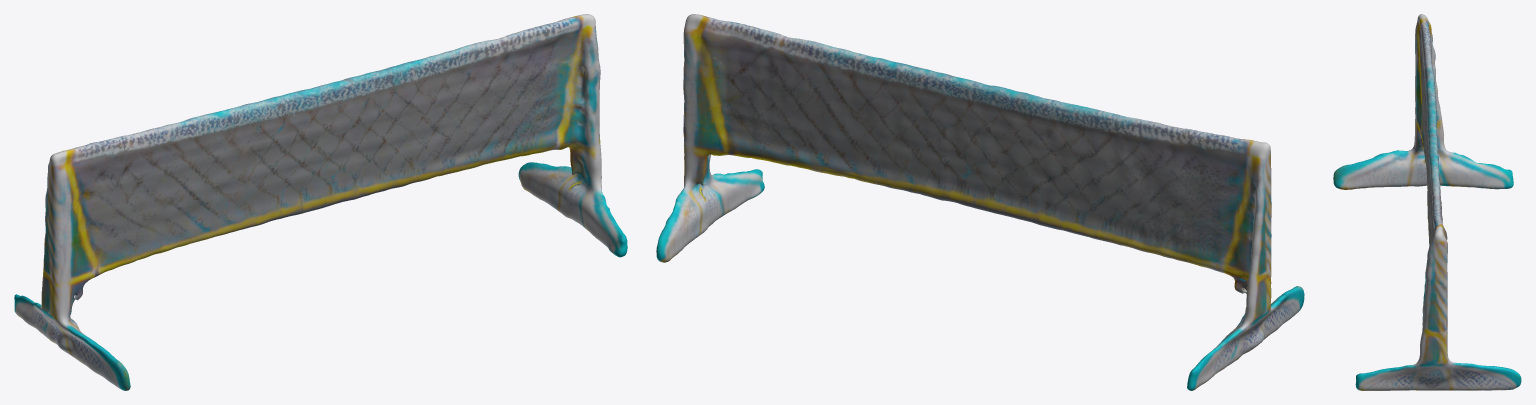
Rendered from f0dbc7d1b6d2_Beach_volleyball_ne.obj.
3 renders of one model, left to right at view 1: azimuth 30°, elevation 25°; view 2: azimuth 150°, elevation 25°; view 3: azimuth 270°, elevation 25°, orthographic. The views are drawn at different scales.
Visible parts, largest first — view 1: mesh; view 2: mesh; view 3: mesh.
Part boxes in pixels (<box>): mesh: <box>14,14,627,390</box>; mesh: <box>656,14,1304,390</box>; mesh: <box>1333,14,1521,390</box>.
Bounding box in the file's own units: 0.9996 × 0.3542 × 0.3601.
Materials: 1 (1 with a texture image).
